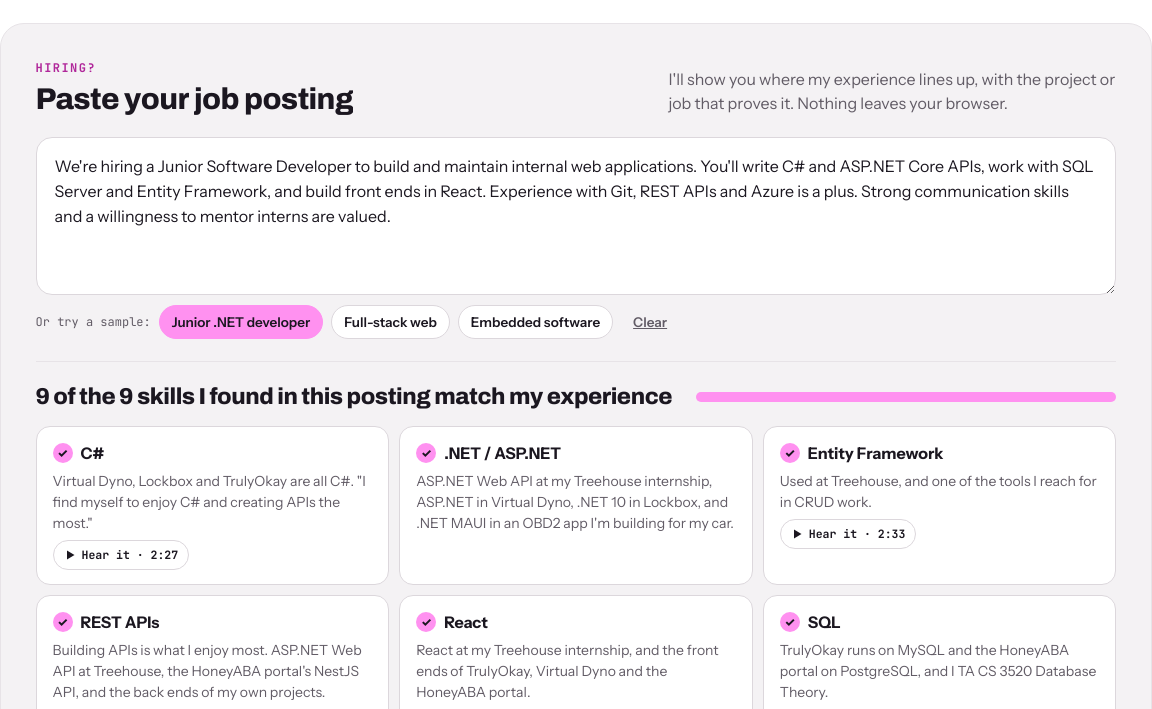
<JobMatch> › matches what the visitor types and lists what is missing
Replace the text in the text box named "job description" with "React and Kubernetes". click: (576,216)
box: [36,137,1116,295]
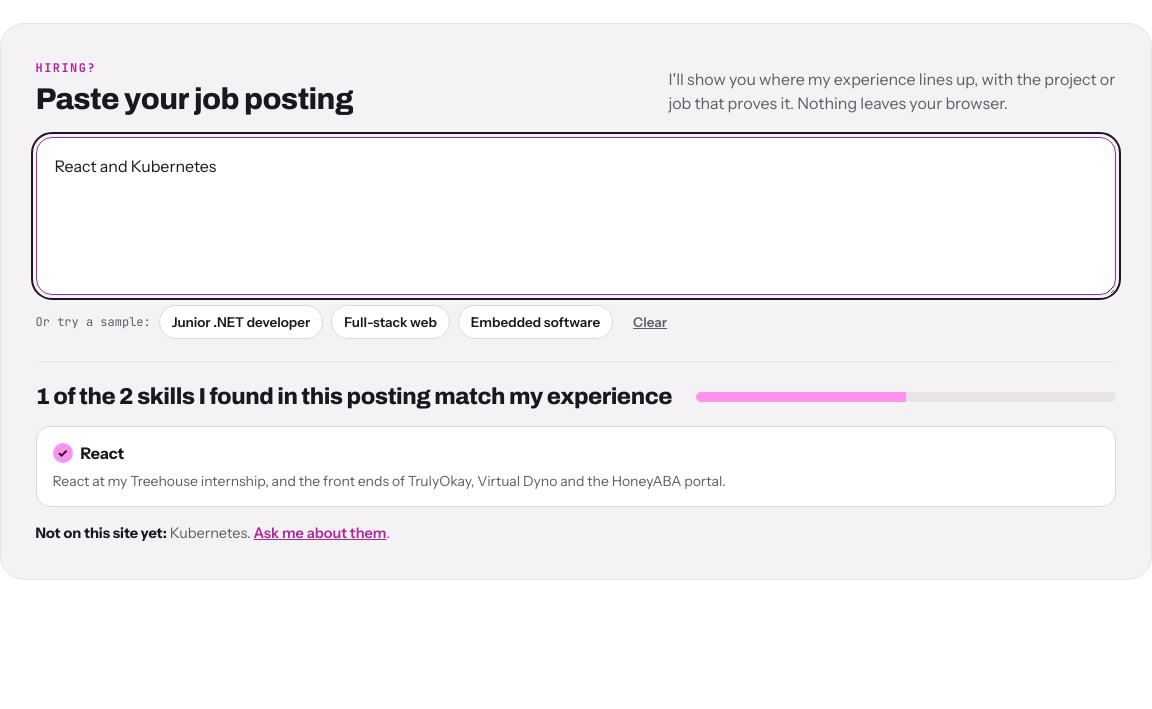
Expected: the text "1 of the 2 skills I found in this posting match my experience" is shown, [36,384,672,410]
